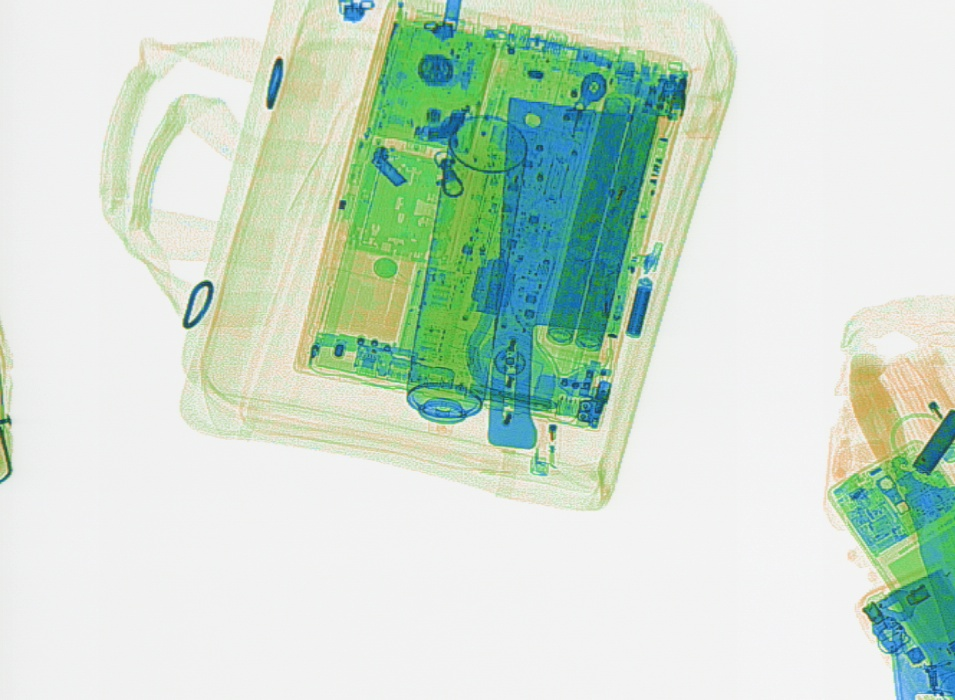knife: (483, 95, 633, 451), (847, 352, 952, 655)
lighter: (526, 392, 560, 474)
pressure: (403, 112, 526, 425)
